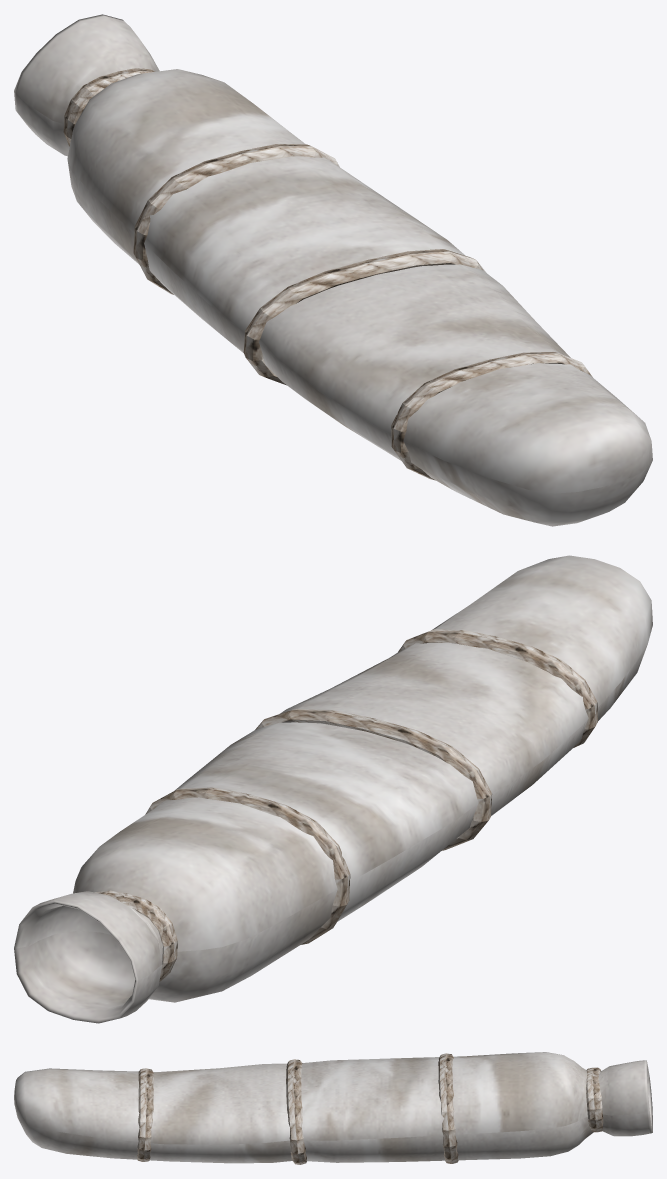
File: Deadbody.fbx
3 views of the same model, one above another, from view 1: azimuth 30°, elevation 25°; view 2: azimuth 150°, elevation 25°; view 3: azimuth 270°, elevation 25° (orthographic). The views are drawn at different scales.
Visible parts, largest first — view 1: Plane, Circle.004; view 2: Plane, Circle.004; view 3: Plane, Circle.004.
Part boxes in pixels (box(x1,y1,x2,y2)): Plane: box(14, 14, 652, 526); Circle.004: box(63, 68, 592, 480); Plane: box(14, 555, 652, 1023); Circle.004: box(95, 629, 597, 981); Plane: box(14, 1052, 652, 1163); Circle.004: box(137, 1053, 603, 1164).
Size of the model in its own units: 130 by 80.46 by 495.
